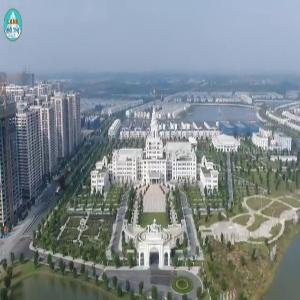drone: (34, 155, 90, 211)
